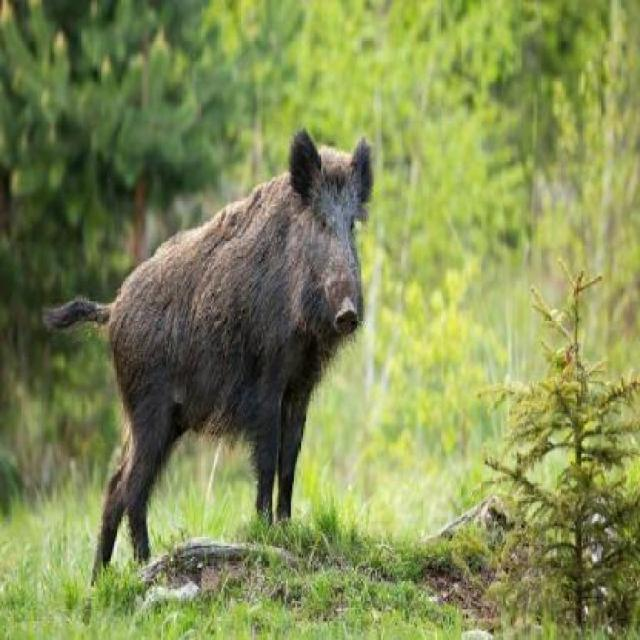wildboar: (37, 127, 375, 596)
